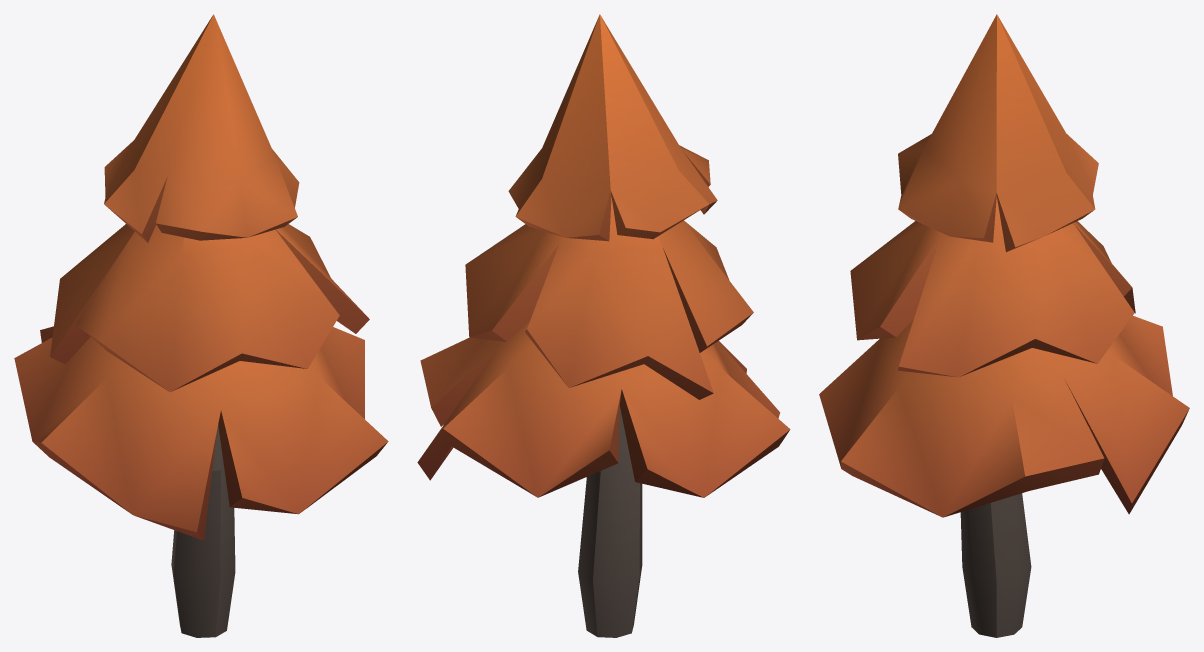
File: tree_pine_orange_small.obj
The picture shows the model from 3 angles, left to right: view 1: azimuth 30°, elevation 25°; view 2: azimuth 150°, elevation 25°; view 3: azimuth 270°, elevation 25°; orthographic projection.
Visible parts, largest first — view 1: tree_pine_orange_small_Cube.076; view 2: tree_pine_orange_small_Cube.076; view 3: tree_pine_orange_small_Cube.076.
Boxes of the visible parts, x1=… form: tree_pine_orange_small_Cube.076: x1=14, y1=14, x2=388, y2=637; tree_pine_orange_small_Cube.076: x1=417, y1=14, x2=790, y2=637; tree_pine_orange_small_Cube.076: x1=819, y1=14, x2=1189, y2=637.
Size of the model in its own units: 2.4 by 4.04 by 2.2.
Materials: 1 (1 with a texture image).
